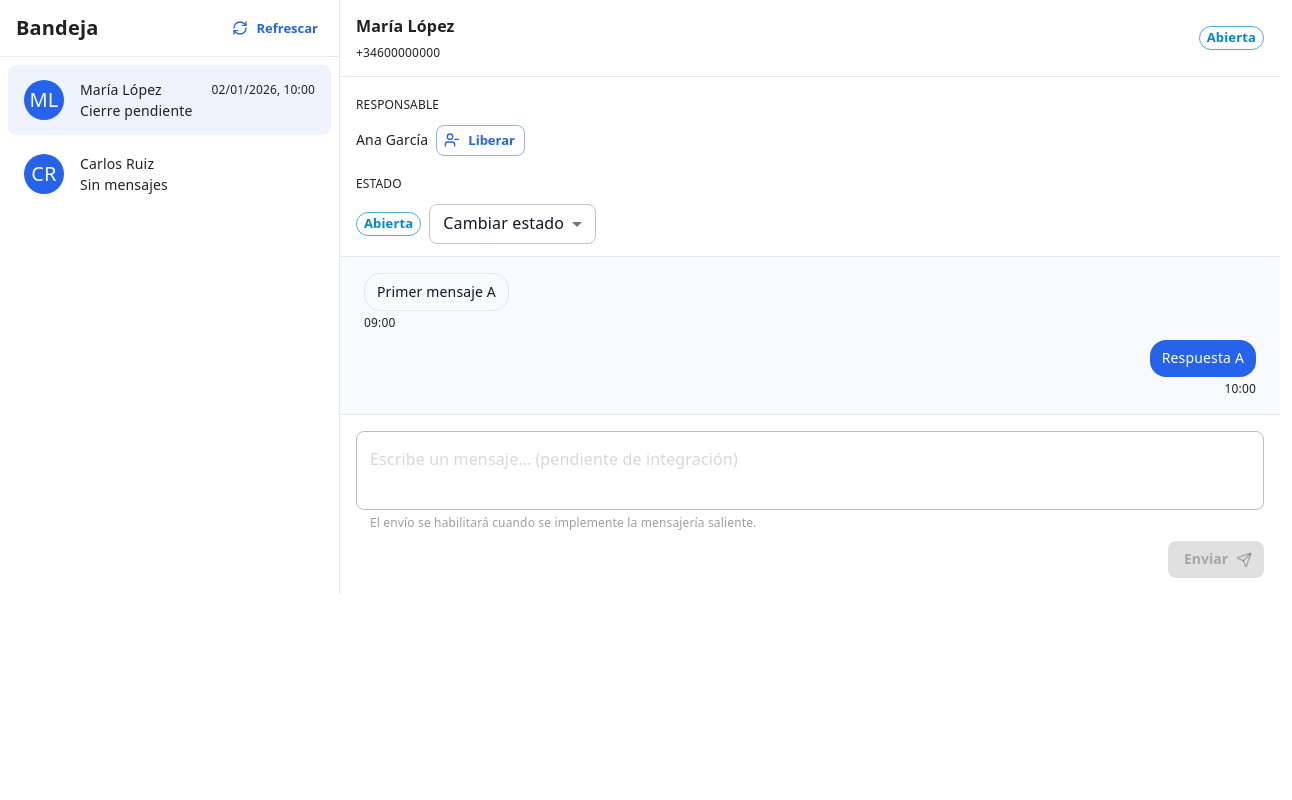
Test: InboxPage · acciones T09 › cambia el estado y ofrece solo transiciones permitidas
This screenshot has width=1292, height=800.
Expected: the text "Primer mensaje A" is shown, [377,282,496,302]
Press the mouse on the dropdown labelled "Cambiar estado" at x=504, y=223, box [443,212,564,234]
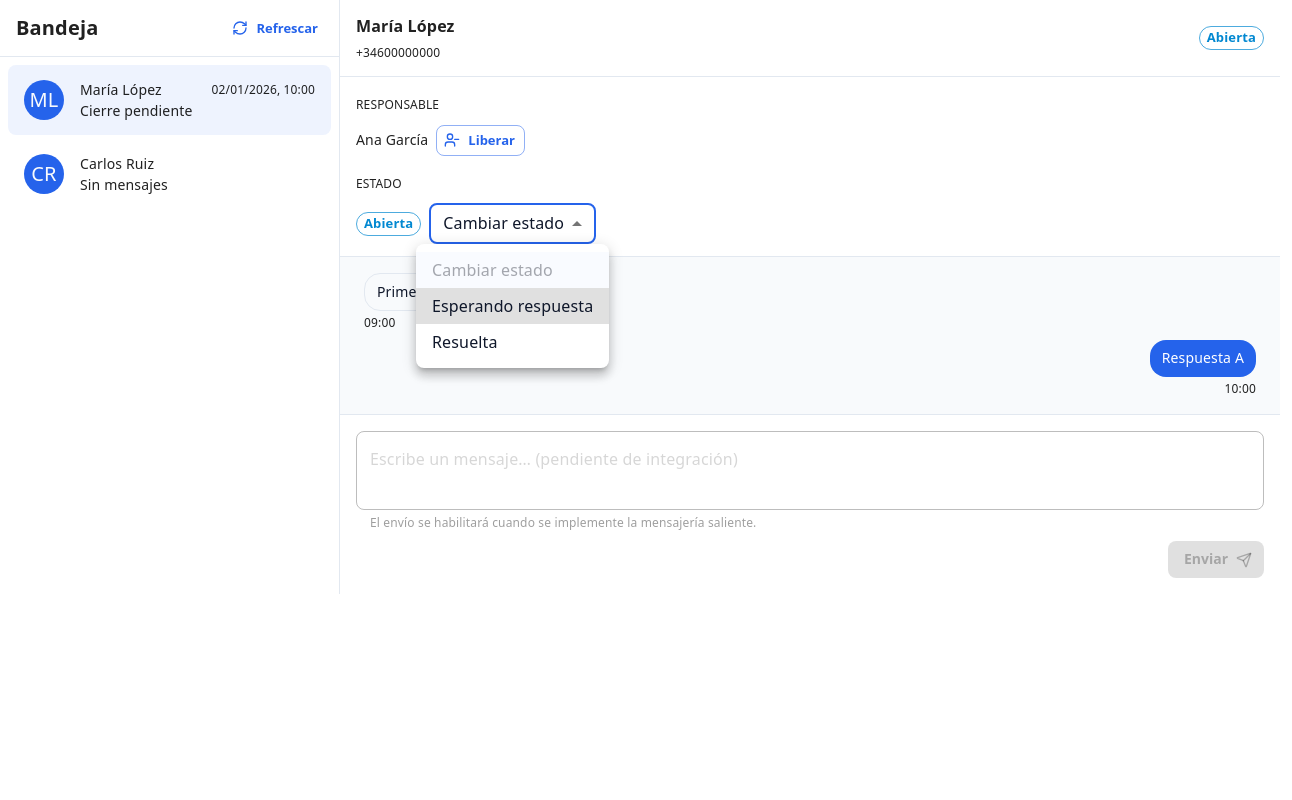
Click the option "Resuelta" at x=465, y=342, box [432,331,498,353]
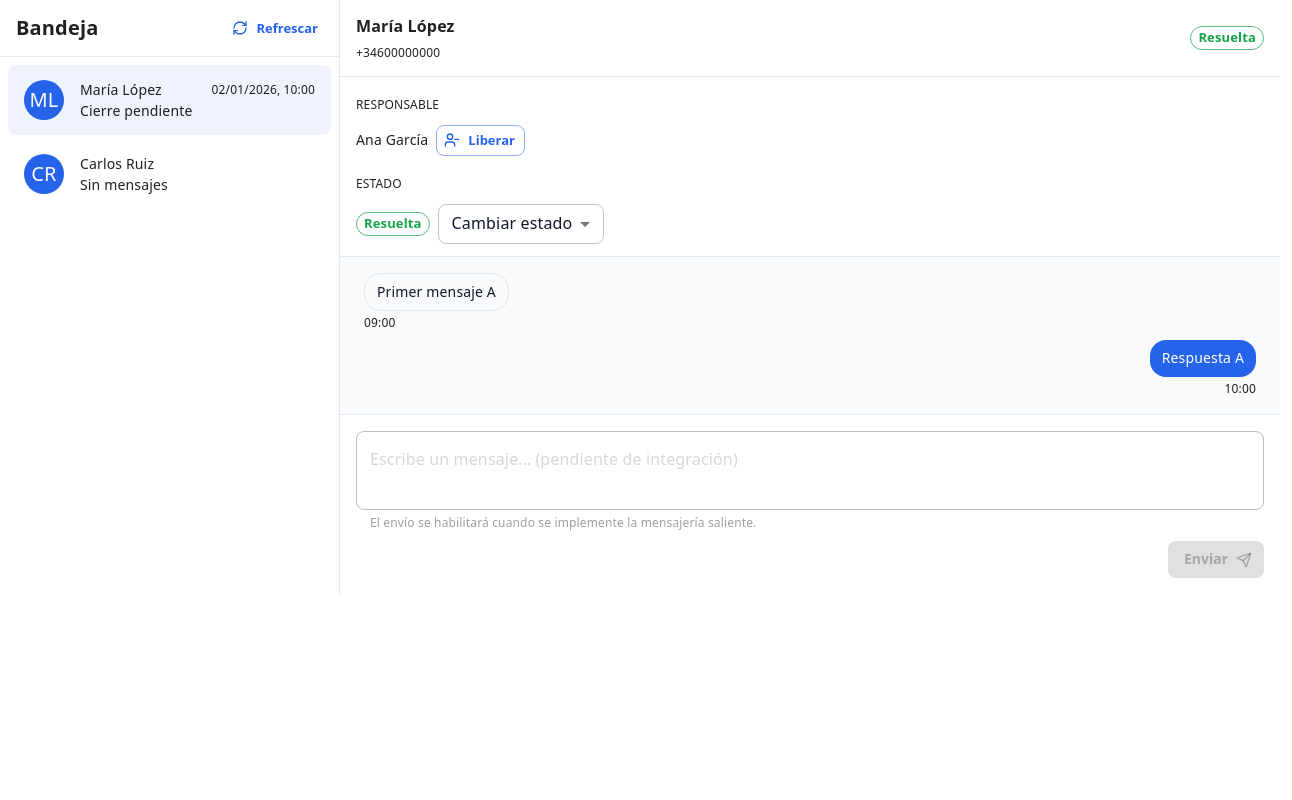
Press the mouse on the dropdown labelled "Cambiar estado" at x=512, y=223, box [452,212,572,234]
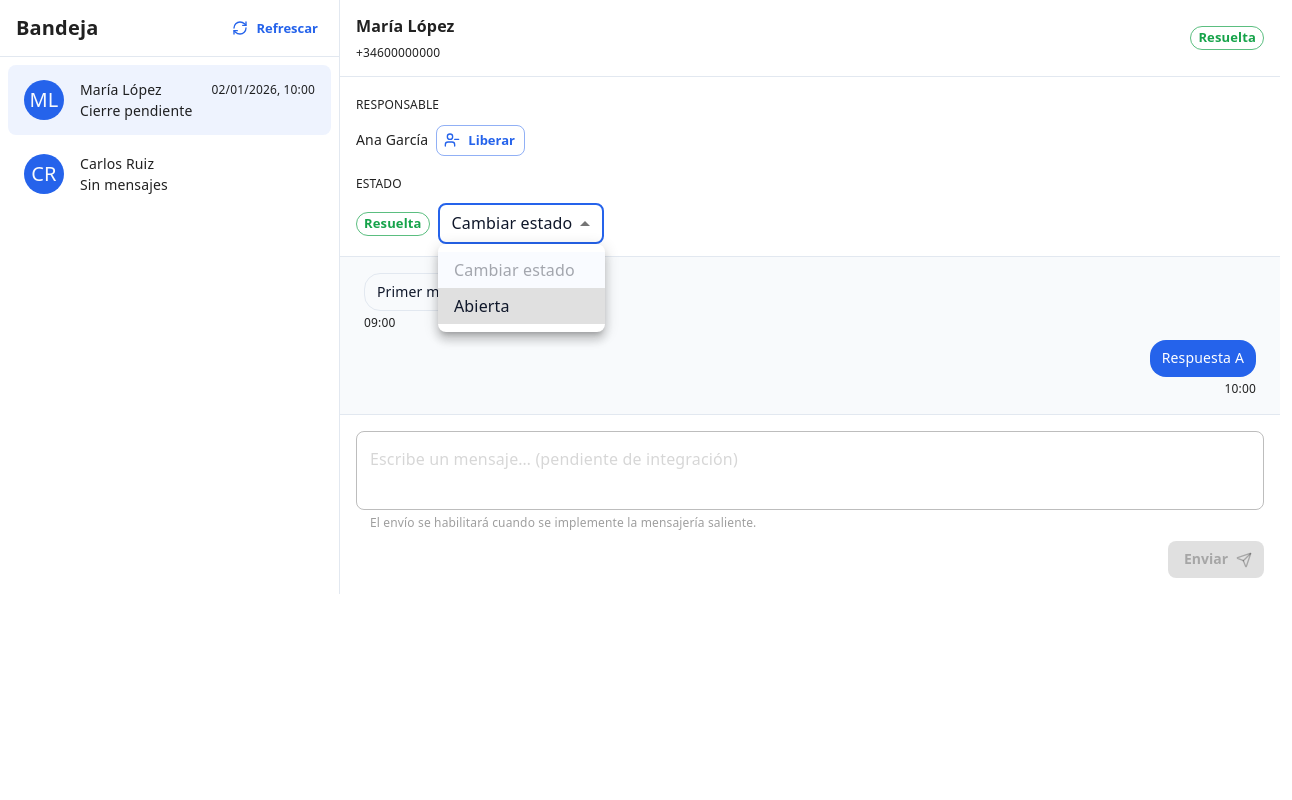
Expected: the option "Esperando respuesta" is not shown
Now the option "Abierta" is shown, box [438,288,605,324]
